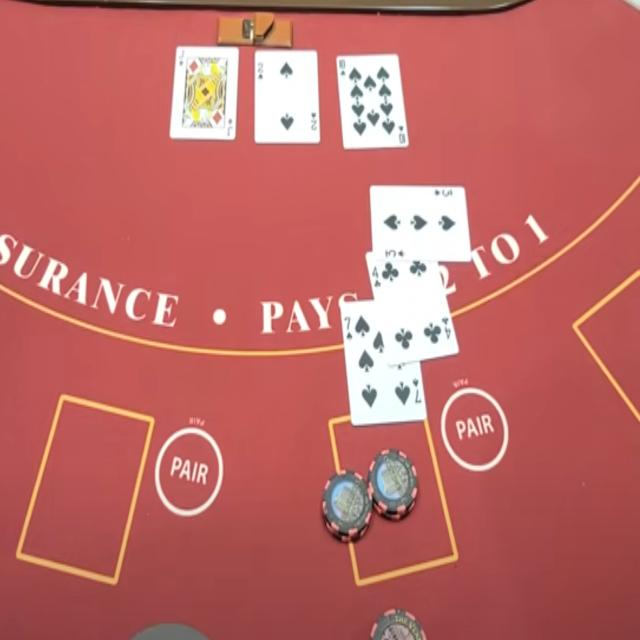10: (338, 58, 347, 70)
2: (256, 58, 265, 74)
3: (440, 185, 461, 206)
4: (369, 260, 380, 280)
7: (342, 313, 353, 332)
J: (177, 46, 186, 60)
